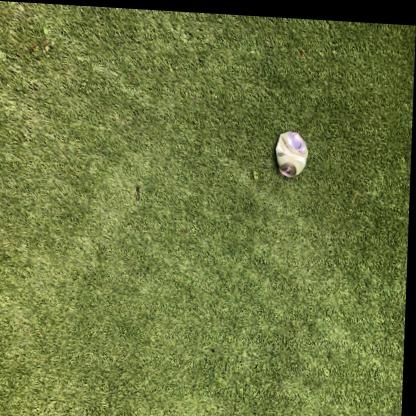trash: (276, 131, 307, 176)
